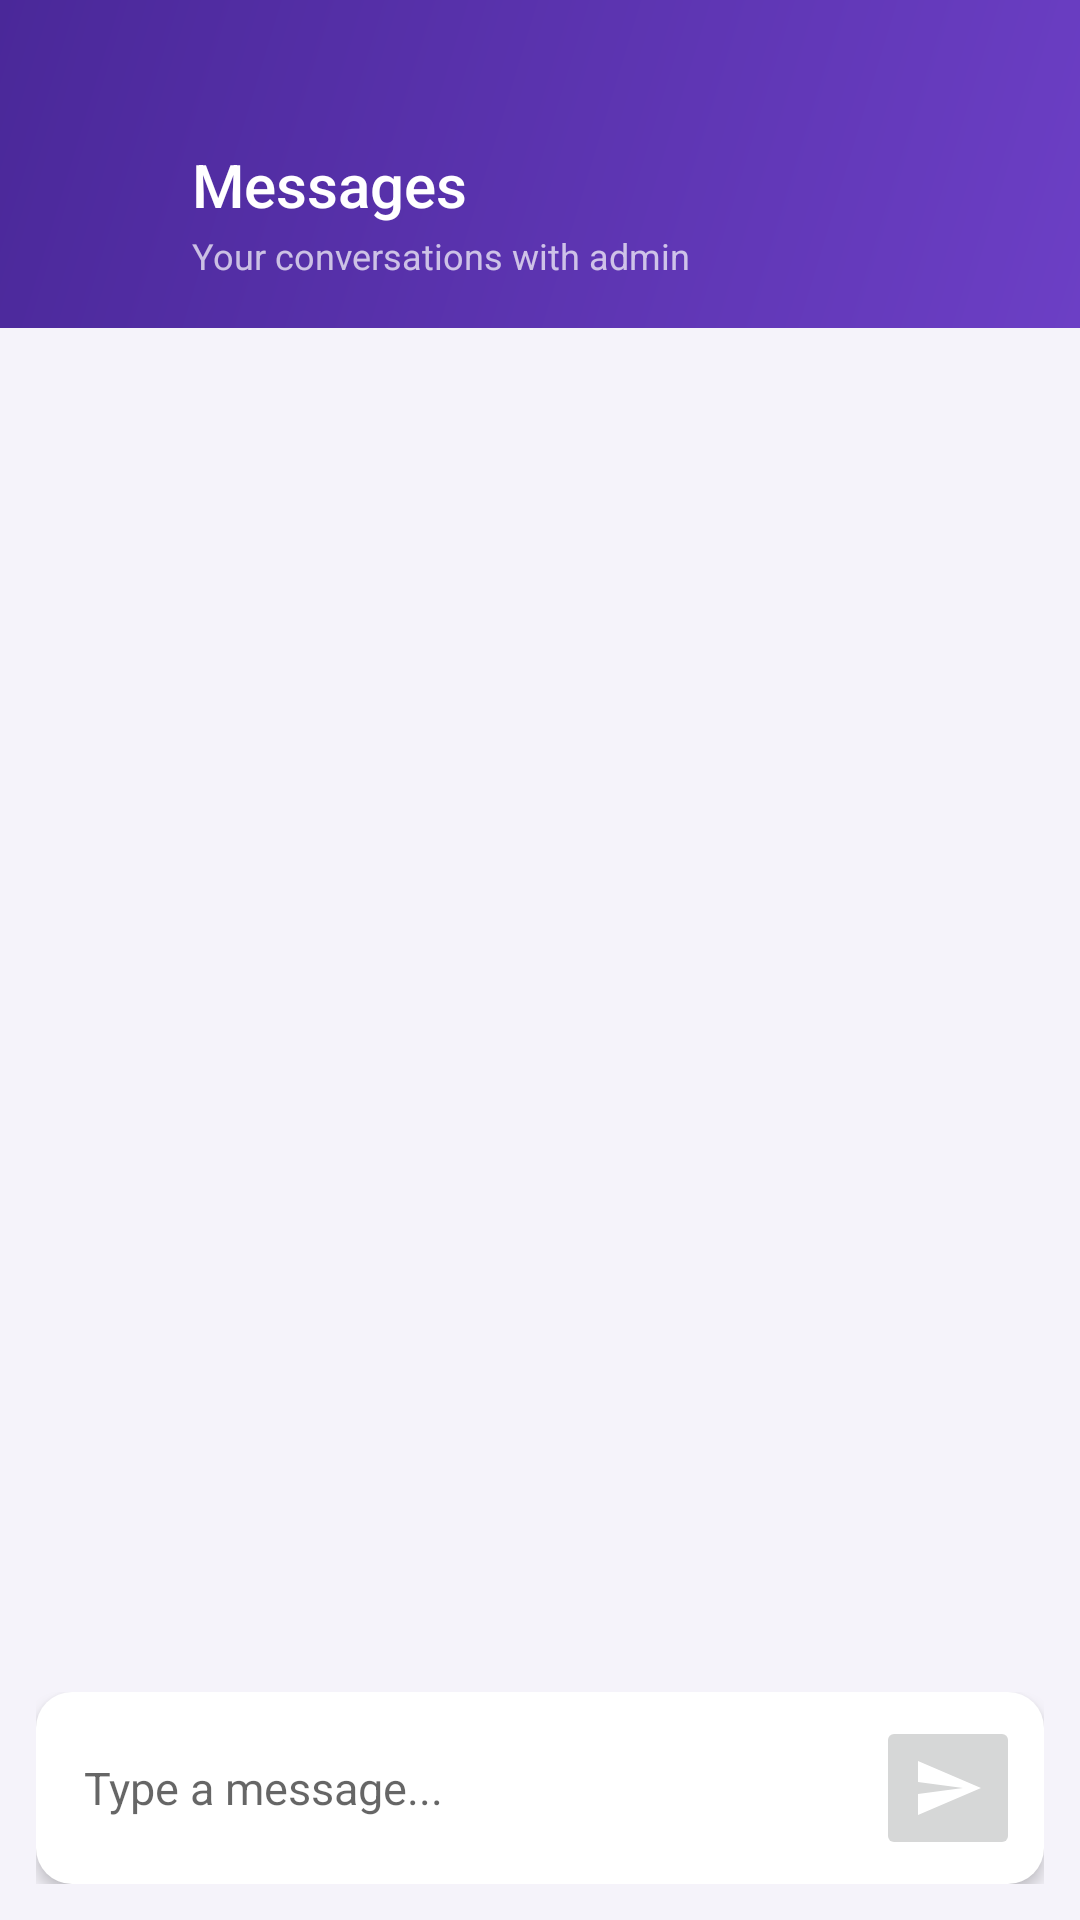

Screen size 1080×1920. Icon name, then its box in pixels as bbox(x1, y1, x2, y2):
Send: bbox(888, 1734, 1008, 1842)
